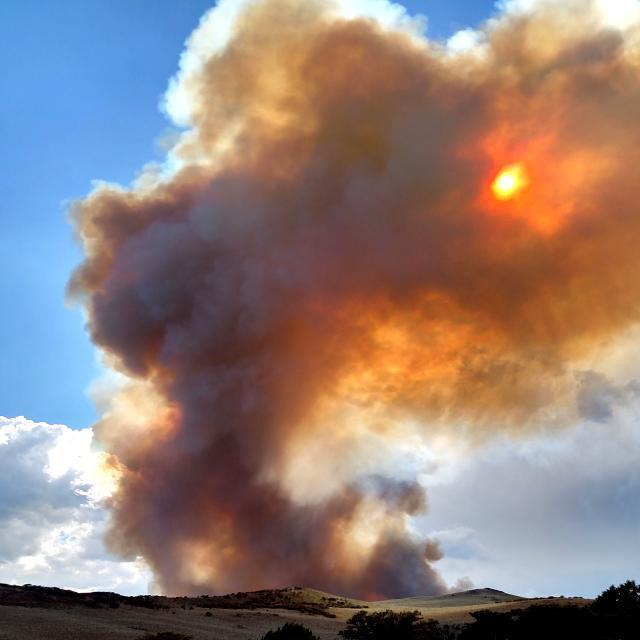Smoke: (37, 0, 640, 594)
